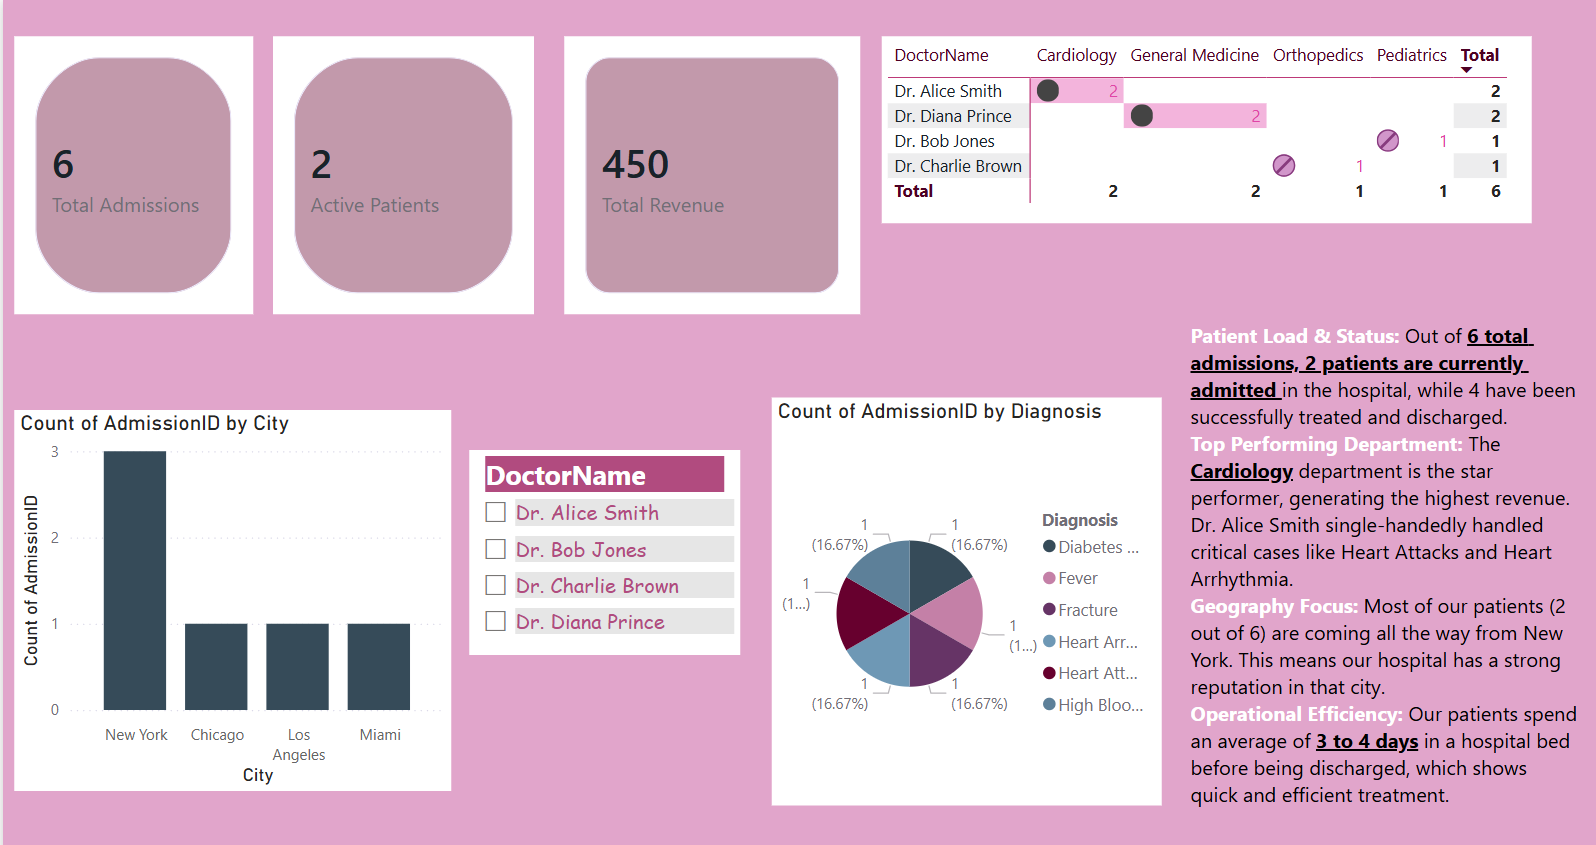

What the dashboard file says about the page in this screenshot:
{"tool":"powerbi","page":{"name":"Page 1","canvas":[1280,720],"ordinal":0},"visuals":[{"type":"pieChart","fields":{"Category":["Admissions.Diagnosis"],"Y":["CountNonNull(Admissions.AdmissionID)"]},"box":[615,318,312,327],"z":1000},{"type":"cardVisual","fields":{"Data":["CountNonNull(Admissions.AdmissionID)"]},"box":[216,29,209,223],"z":3000},{"type":"cardVisual","fields":{"Data":["Sum(Doctors.ConsultationFee)"]},"box":[449,29,237,223],"z":4000},{"type":"clusteredColumnChart","fields":{"Category":["Patients.City"],"Y":["CountNonNull(Admissions.AdmissionID)"]},"box":[9,328,350,305],"z":5000},{"type":"pivotTable","fields":{"Rows":["Doctors.DoctorName"],"Values":["CountNonNull(Admissions.AdmissionID)"],"Columns":["Doctors.Specialty"]},"box":[703,29,520,150],"z":6000},{"type":"cardVisual","fields":{"Data":["CountNonNull(Admissions.AdmissionID)"]},"box":[9,29,191,223],"z":7001},{"type":"textbox","box":[945,252,320,441],"z":7002},{"type":"slicer","fields":{"Values":["Doctors.DoctorName"]},"box":[373,360,217,164],"z":7003}]}

Visuals, with their boxes on the page's 1280x720 design canvas (x1, y1, x2, y2). These are canvas units, not pixel positions in the 1596x845 screenshot, which may show the page scaled, cropped or inside an application window:
pieChart - Admissions.Diagnosis x CountNonNull(Admissions.AdmissionID): (615,318,927,645)
cardVisual - CountNonNull(Admissions.AdmissionID): (216,29,425,252)
cardVisual - Sum(Doctors.ConsultationFee): (449,29,686,252)
clusteredColumnChart - Patients.City x CountNonNull(Admissions.AdmissionID): (9,328,359,633)
pivotTable - Doctors.DoctorName x CountNonNull(Admissions.AdmissionID): (703,29,1223,179)
cardVisual - CountNonNull(Admissions.AdmissionID): (9,29,200,252)
textbox: (945,252,1265,693)
slicer - Doctors.DoctorName: (373,360,590,524)
